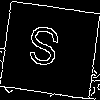S: (25, 25, 62, 75)
